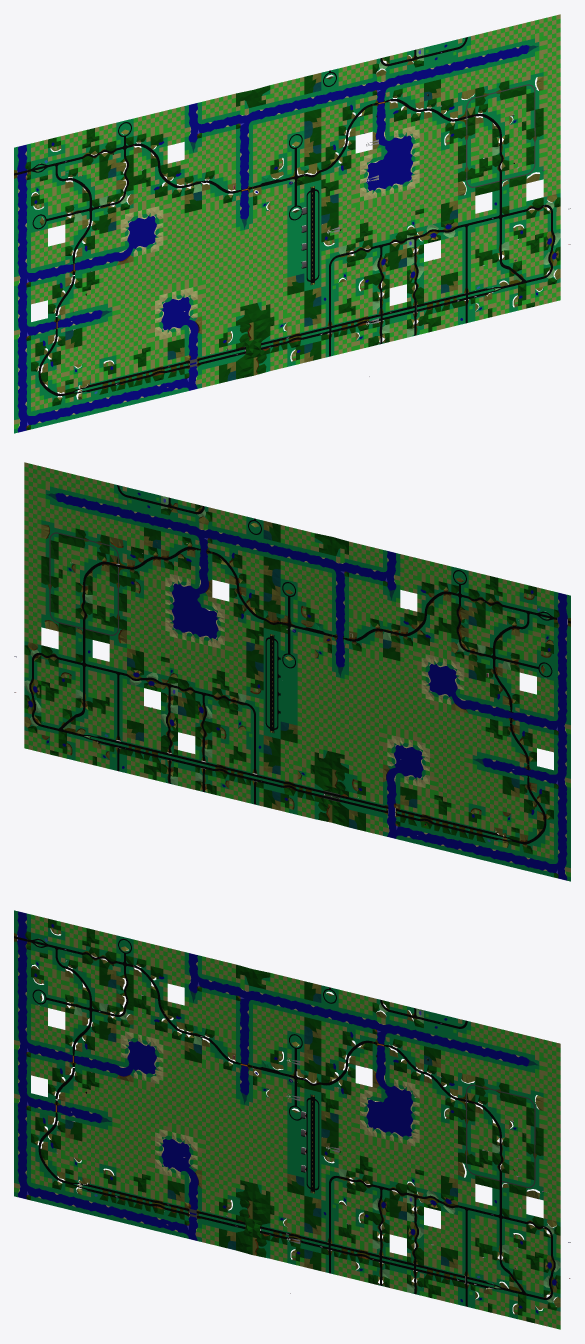
File: Cape_Cod_Course_2.obj
The picture shows the model from 3 angles, top to bottom: view 1: azimuth 30°, elevation 25°; view 2: azimuth 150°, elevation 25°; view 3: azimuth 330°, elevation 25°; orthographic projection.
Bounding box in the file's own units: 134 × 65.54 × 16.84.
